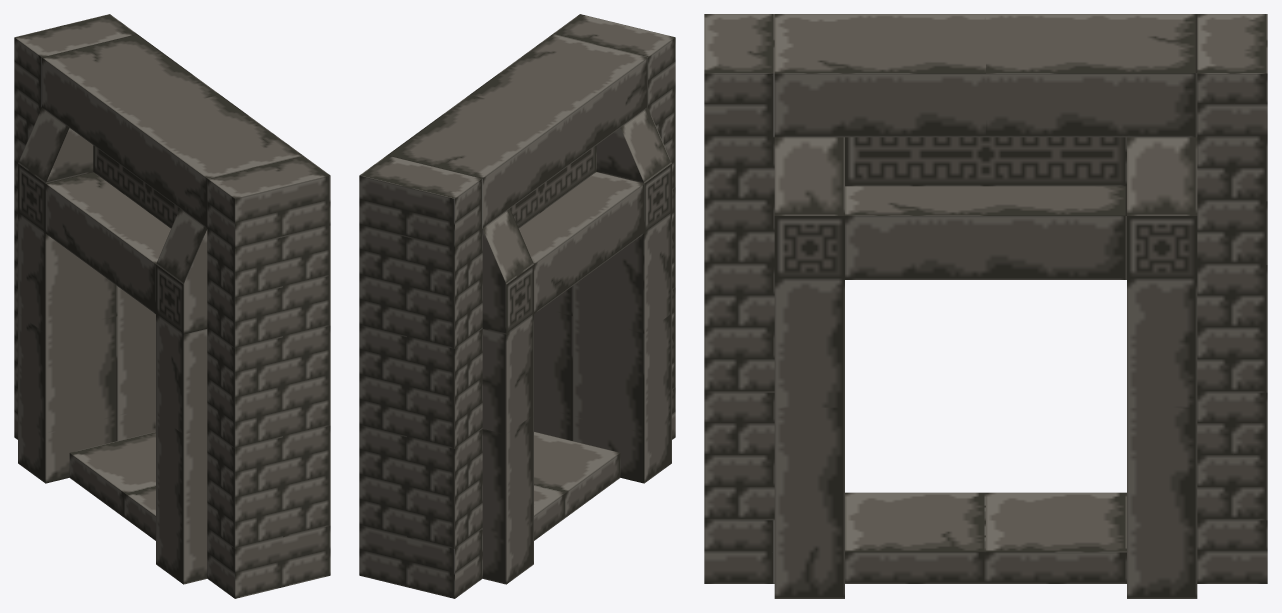
The model's file is Large_Gate.fbx.
The picture shows the model from 3 angles, left to right: view 1: azimuth 30°, elevation 25°; view 2: azimuth 150°, elevation 25°; view 3: azimuth 270°, elevation 25°; orthographic projection. The views are drawn at different scales.
Parts seen in each view (by area): view 1: Large_Gate; view 2: Large_Gate; view 3: Large_Gate.
Part boxes in pixels (bbox=[...]): Large_Gate: bbox=[14, 14, 330, 598]; Large_Gate: bbox=[359, 14, 675, 598]; Large_Gate: bbox=[704, 14, 1267, 598].
Bounding box in the file's own units: 300 × 800 × 800.
Materials: 1 (1 with a texture image).
